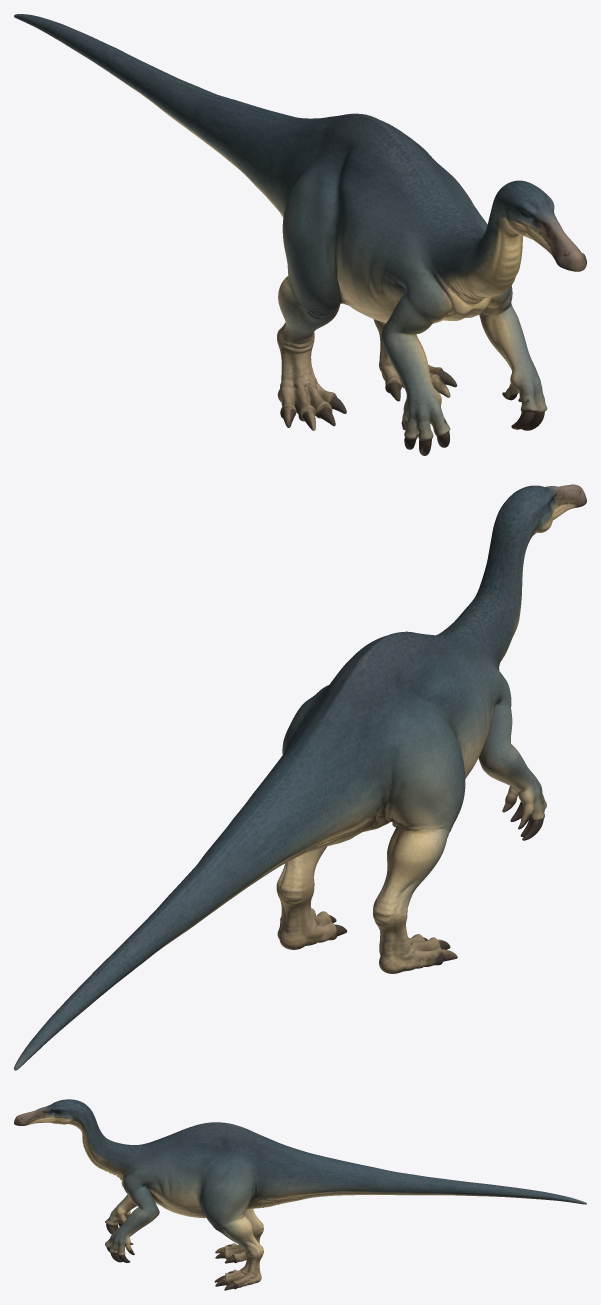
3 renders of one model, top to bottom at view 1: azimuth 30°, elevation 25°; view 2: azimuth 150°, elevation 25°; view 3: azimuth 270°, elevation 25°, orthographic. The views are drawn at different scales.
Visible parts, largest first — view 1: Authored orientation; view 2: Authored orientation; view 3: Authored orientation.
Part boxes in pixels (<box>): Authored orientation: <box>14,14,586,455</box>; Authored orientation: <box>14,484,586,1070</box>; Authored orientation: <box>14,1099,586,1290</box>.
Size of the model in its own units: 0.1738 by 0.3286 by 1.
1 material, 1 textured.
